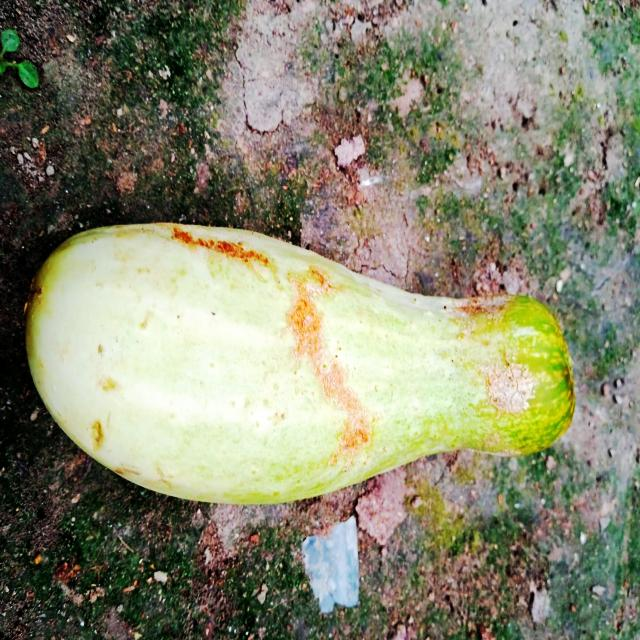Belly-Rot: (280, 261, 390, 474), (453, 294, 546, 419), (170, 222, 273, 273), (84, 407, 112, 458)
